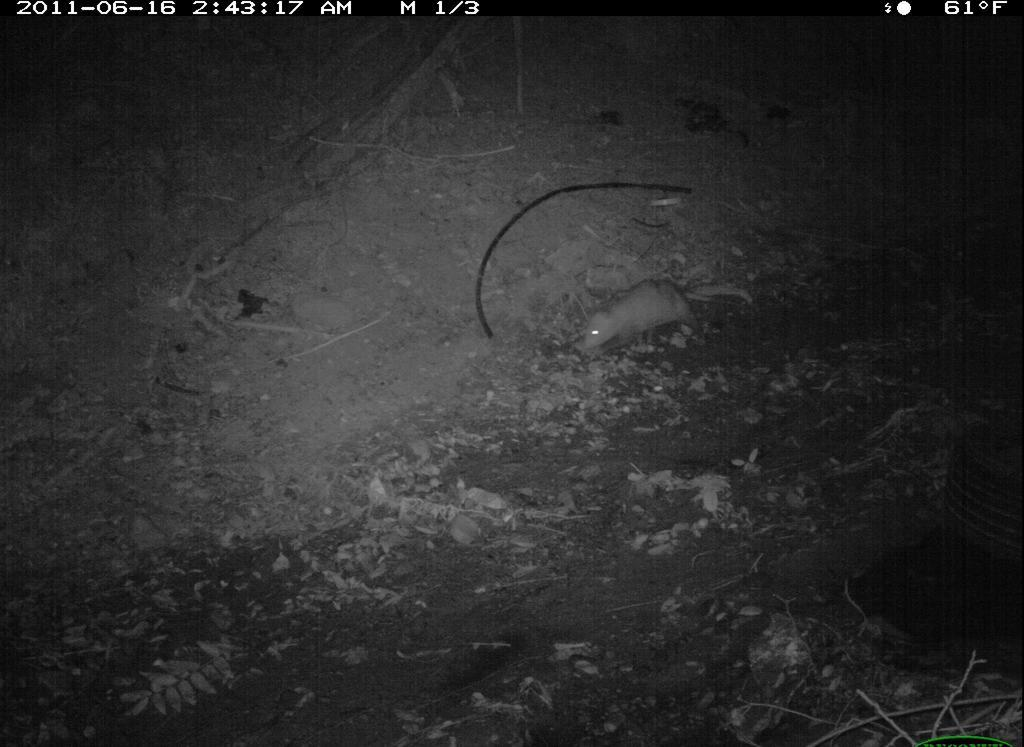opossum: (553, 263, 743, 400)
